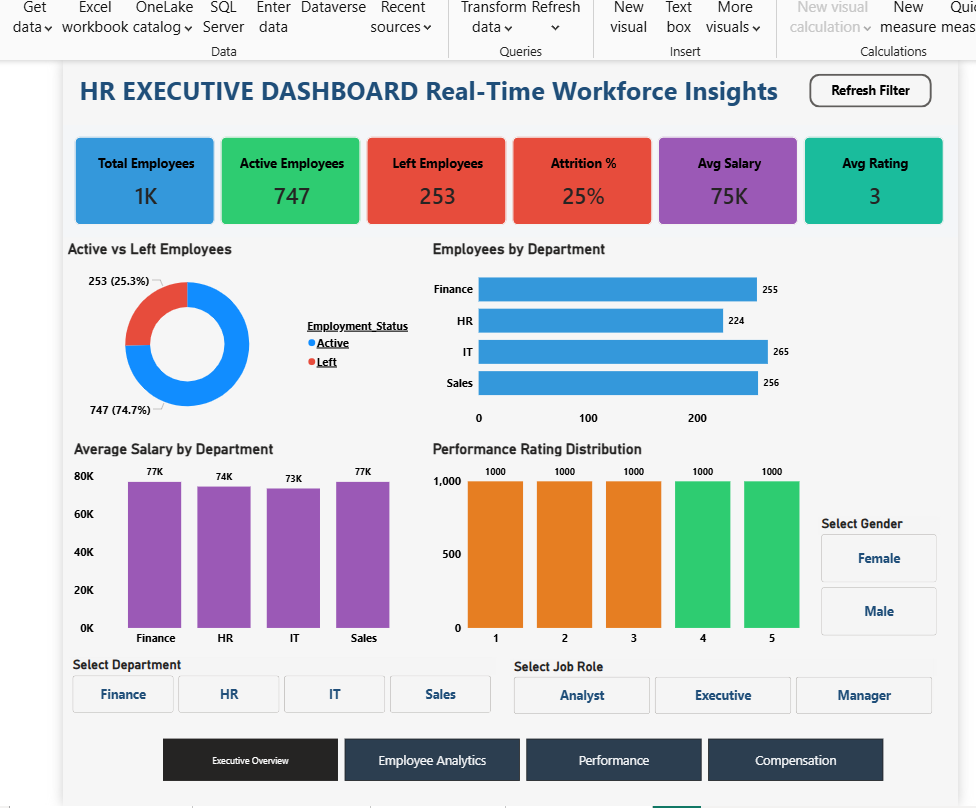

The page's visual inventory and layout, read from the dashboard file:
{"tool":"powerbi","page":{"name":"Executive Overview","canvas":[1320,1100],"ordinal":0},"visuals":[{"type":"shape","box":[9.2,0,1310.5,86.6],"z":0},{"type":"advancedSlicerVisual","fields":{"Values":["HR_Employees.Department"]},"box":[9.2,881,628.5,86.6],"z":1000},{"type":"cardVisual","fields":{"Data":["HR_Employees.Total Employees","HR_Employees.Active Employees","HR_Employees.Left Employees","HR_Employees.Attrition %","HR_Employees.Average Salary","HR_Employees.Avg Performance Rating"]},"box":[0,95.8,1319.7,165.9],"z":2000},{"type":"donutChart","title":"Active vs Left Employees","fields":{"Category":["HR_Employees.Employment_Status"],"Y":["CountNonNull(HR_Employees.Employee_ID)"]},"box":[1.8,265.4,527.1,283.8],"z":3000},{"type":"clusteredBarChart","title":"Employees by Department","fields":{"Category":["HR_Employees.Department"],"Y":["CountNonNull(HR_Employees.Employee_ID)"]},"box":[540,265.4,551.1,283.8],"z":4000},{"type":"columnChart","fields":{"Category":["HR_Employees.Department"],"Y":["HR_Employees.Average Salary"]},"box":[11.1,560.3,519.8,313.3],"z":5000},{"type":"columnChart","title":"Performance Rating Distribution","fields":{"Category":["HR_Performance.Performance_Rating"],"Y":["HR_Performance.Rating Count"]},"box":[540,560.3,551.1,313.3],"z":6000},{"type":"actionButton","box":[1100.4,20.3,180.6,49.8],"z":7000},{"type":"pageNavigator","box":[147.5,1000.8,1063.5,62.7],"z":8000},{"type":"advancedSlicerVisual","fields":{"Values":["HR_Employees.Job_Role"]},"box":[659.9,882.9,628.5,86.6],"z":9000},{"type":"advancedSlicerVisual","fields":{"Values":["HR_Employees.Gender"]},"box":[1113.3,672.8,180.6,180.6],"z":10000}]}

Visuals, with their boxes on the page's 1320x1100 design canvas (x1, y1, x2, y2). These are canvas units, not pixel positions in the 976x808 screenshot, which may show the page scaled, cropped or inside an application window:
shape: Rect(9, 0, 1320, 87)
advancedSlicerVisual - HR_Employees.Department: Rect(9, 881, 638, 968)
cardVisual - HR_Employees.Total Employees x HR_Employees.Active Employees: Rect(0, 96, 1320, 262)
"Active vs Left Employees" donutChart: Rect(2, 265, 529, 549)
"Employees by Department" clusteredBarChart: Rect(540, 265, 1091, 549)
columnChart - HR_Employees.Department x HR_Employees.Average Salary: Rect(11, 560, 531, 874)
"Performance Rating Distribution" columnChart: Rect(540, 560, 1091, 874)
actionButton: Rect(1100, 20, 1281, 70)
pageNavigator: Rect(148, 1001, 1211, 1064)
advancedSlicerVisual - HR_Employees.Job_Role: Rect(660, 883, 1288, 970)
advancedSlicerVisual - HR_Employees.Gender: Rect(1113, 673, 1294, 853)
